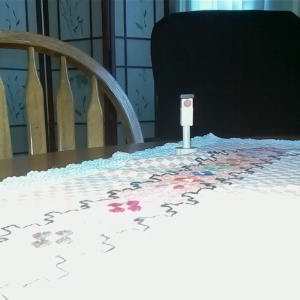traffic light red: (174, 90, 198, 158)
